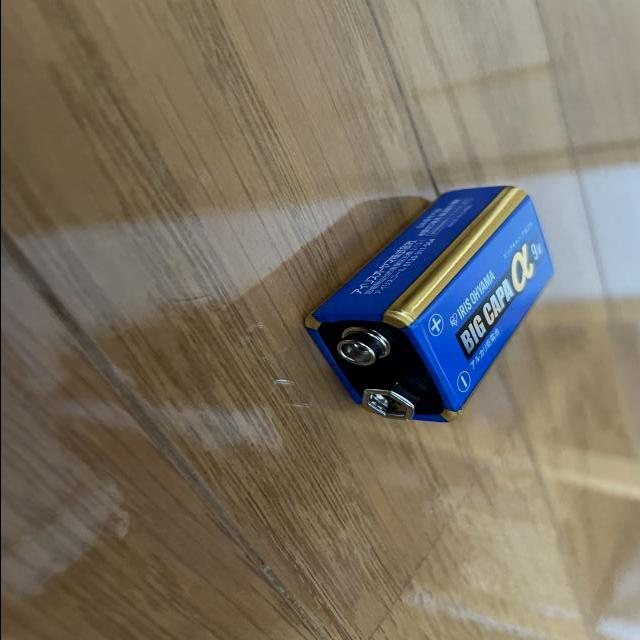9V: (299, 184, 552, 425)
